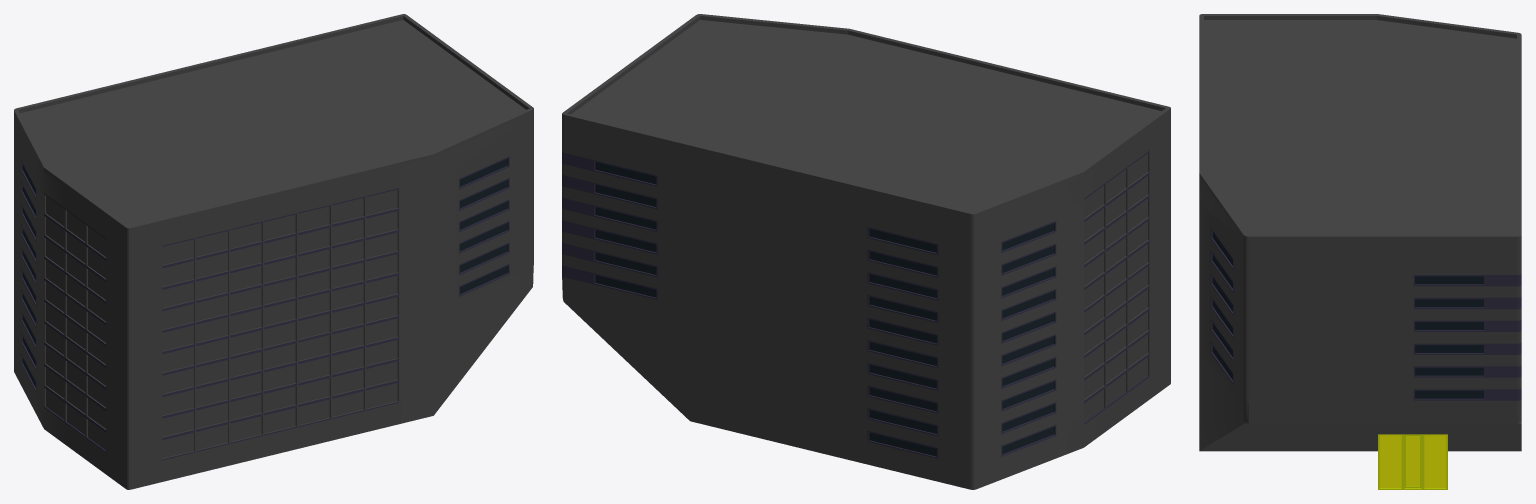
Rendered from Zerniklaan_6.fbx.
3 renders of one model, left to right at view 1: azimuth 30°, elevation 25°; view 2: azimuth 150°, elevation 25°; view 3: azimuth 270°, elevation 25°, orthographic. The views are drawn at different scales.
Size of the model in its own units: 137 by 79.92 by 83.83.
